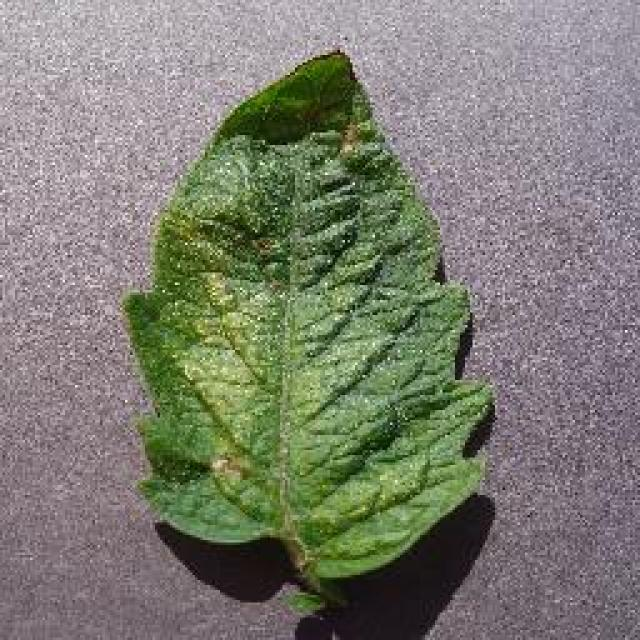Tomato___Spider_mites Two-spotted_spider_mite: (122, 52, 490, 610)
